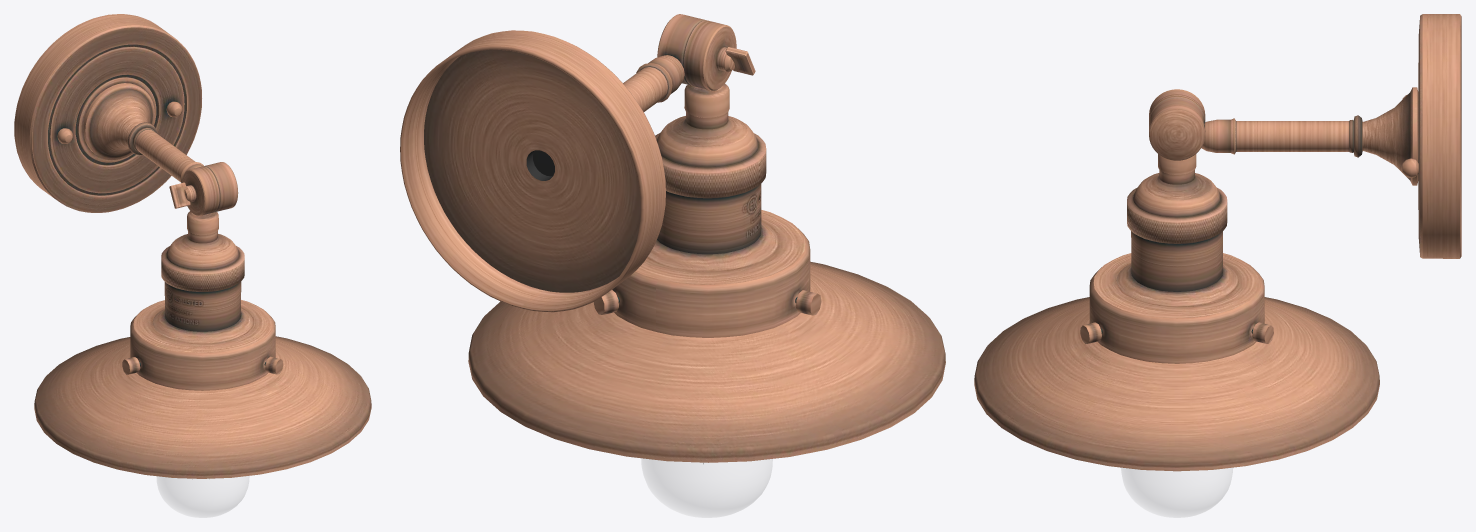
File: AnisotropyBarnLamp.glb
The picture shows the model from 3 angles, left to right: view 1: azimuth 30°, elevation 25°; view 2: azimuth 150°, elevation 25°; view 3: azimuth 270°, elevation 25°; orthographic projection. The views are drawn at different scales.
Visible parts, largest first — view 1: Lamp Metal, Lamp Glass; view 2: Lamp Metal, Lamp Glass; view 3: Lamp Metal, Lamp Glass.
Boxes of the visible parts, bbox=[...] form: Lamp Metal: bbox=[14, 14, 371, 479]; Lamp Glass: bbox=[157, 476, 249, 517]; Lamp Metal: bbox=[400, 14, 945, 464]; Lamp Glass: bbox=[641, 458, 772, 517]; Lamp Metal: bbox=[974, 14, 1461, 471]; Lamp Glass: bbox=[1121, 468, 1232, 517].
Size of the model in its own units: 0.1908 by 0.2552 by 0.2265.
3 materials, 1 textured.
